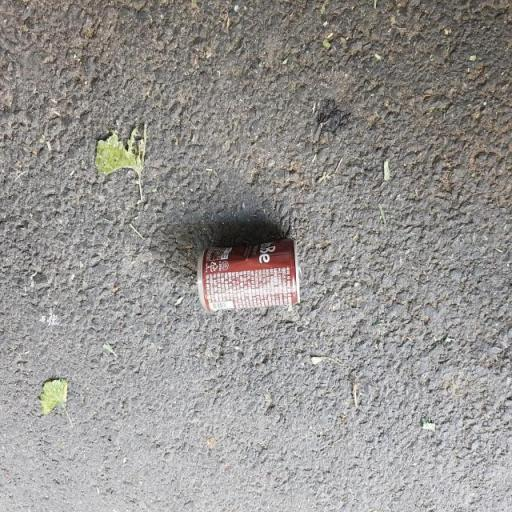metal: (180, 228, 310, 335)
